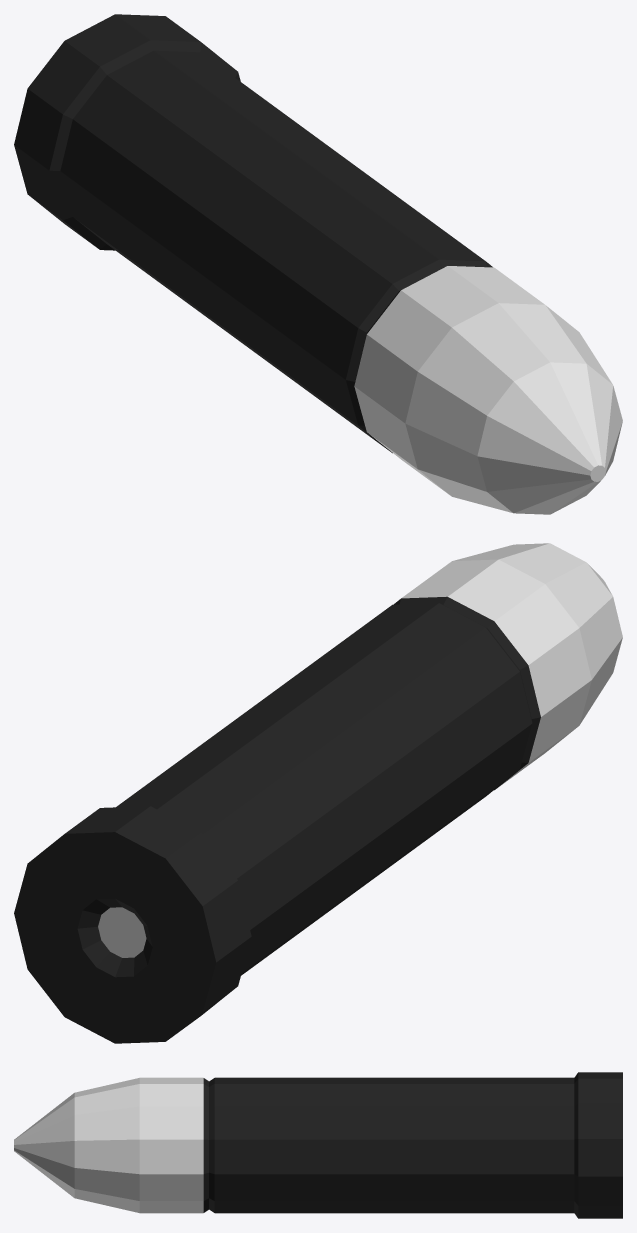
File: bullet.glb
3 renders of one model, top to bottom at view 1: azimuth 30°, elevation 25°; view 2: azimuth 150°, elevation 25°; view 3: azimuth 270°, elevation 25°, orthographic. The views are drawn at different scales.
Visible parts, largest first — view 1: Pistol 10mm Bullet; view 2: Pistol 10mm Bullet; view 3: Pistol 10mm Bullet.
Boxes of the visible parts, x1,y1,x2,y2 form: Pistol 10mm Bullet: (14, 14, 622, 514); Pistol 10mm Bullet: (14, 543, 622, 1043); Pistol 10mm Bullet: (14, 1072, 622, 1218).
Size of the model in its own units: 0.0542 by 0.0542 by 0.2241.
Materials: 1 (1 with a texture image).
